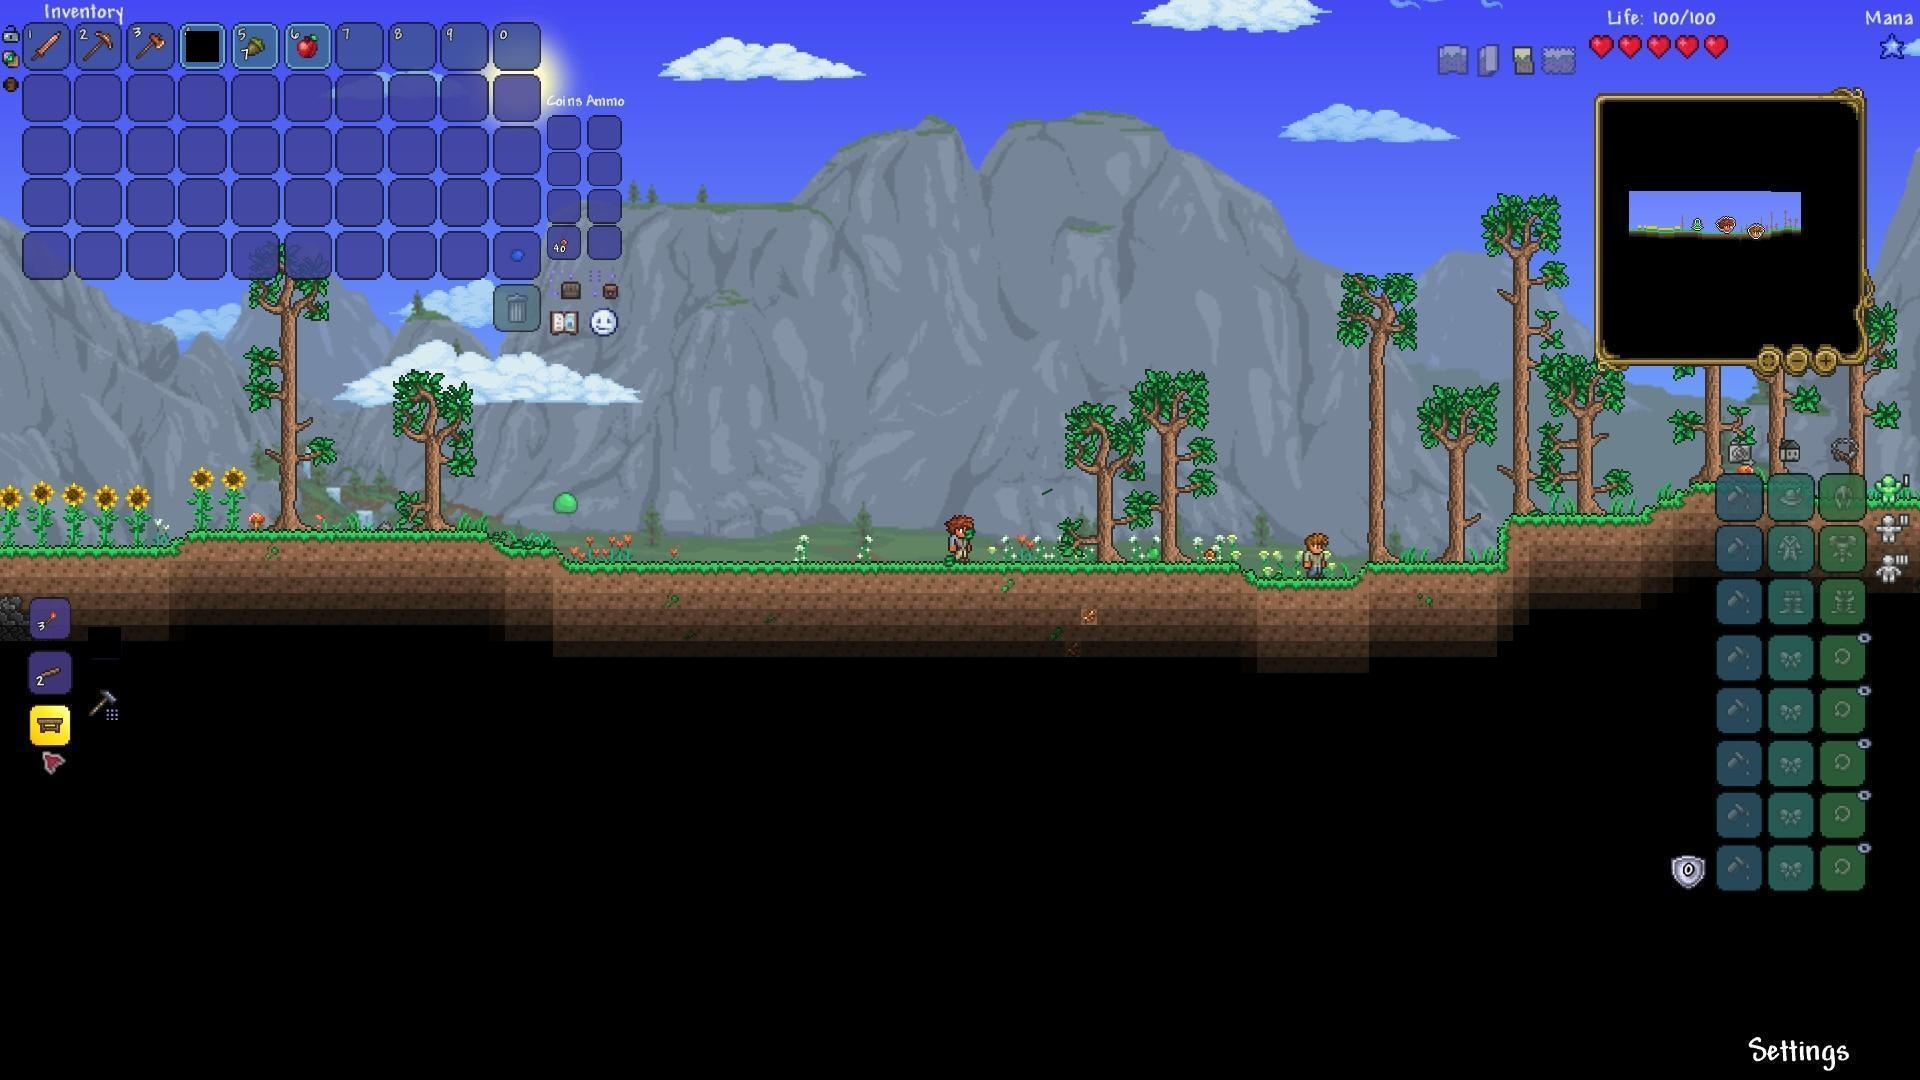slime: (553, 491, 580, 514)
workbench: (32, 712, 69, 737)
